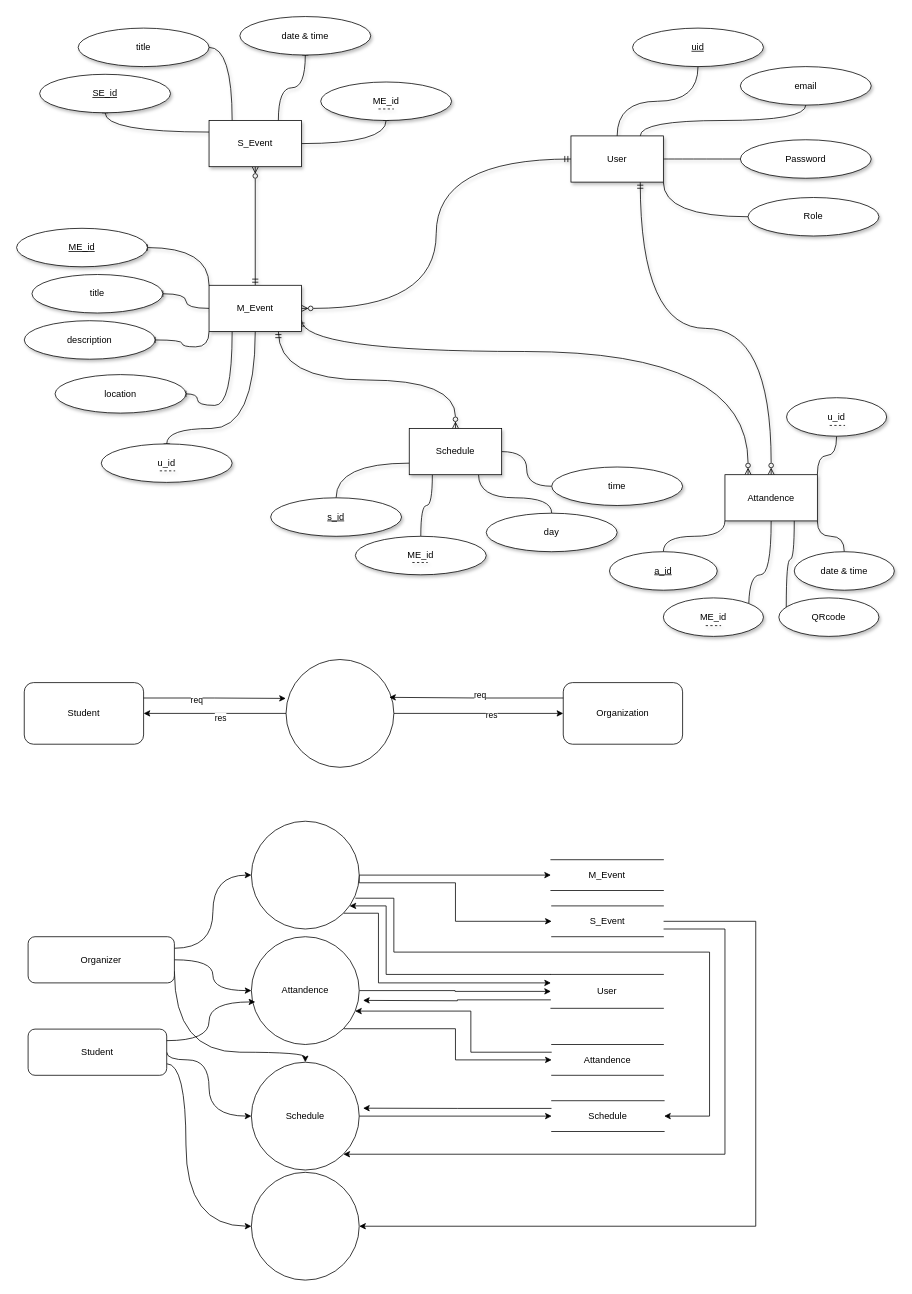
Some shapes in this 912 by 1294 pixel diagram are drawn without their labels. The centre of each missing label's shape, as x and y in pixels:
ChatBoat: pixel 305 1226
ECE: pixel 339 713
Event: pixel 305 874
